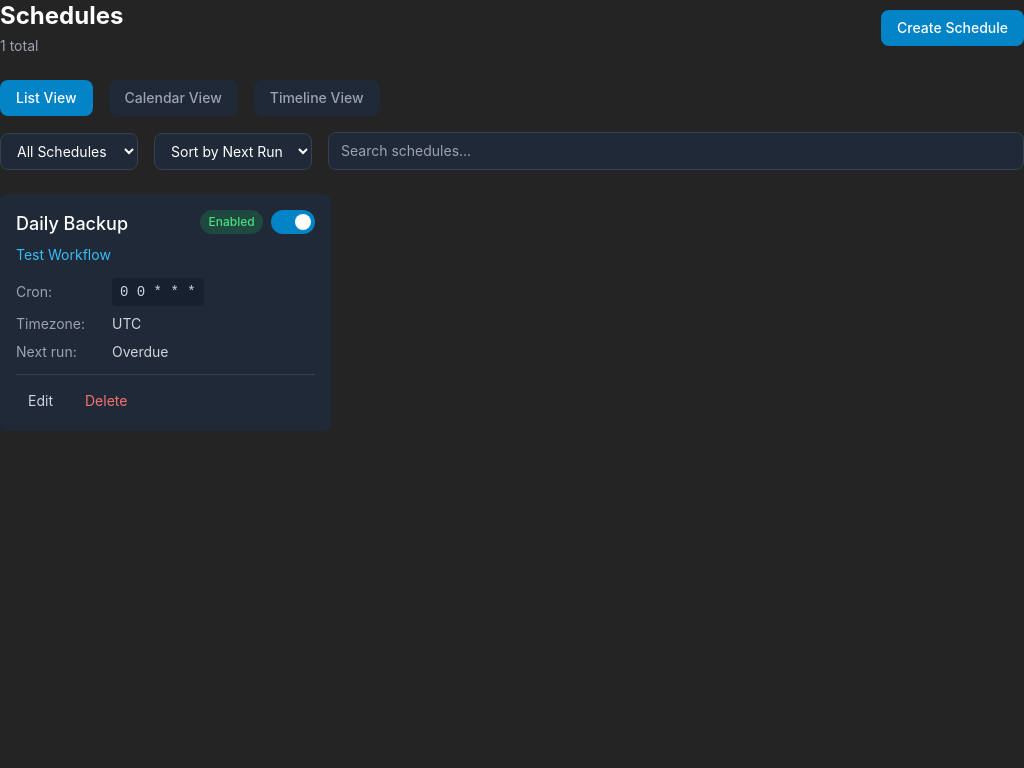
Test case: Schedules Page › Delete confirmation › should show delete confirmation modal when delete clicked
The image size is (1024, 768).
Click the button "Delete" at (106, 401), box [73,387,139,415]
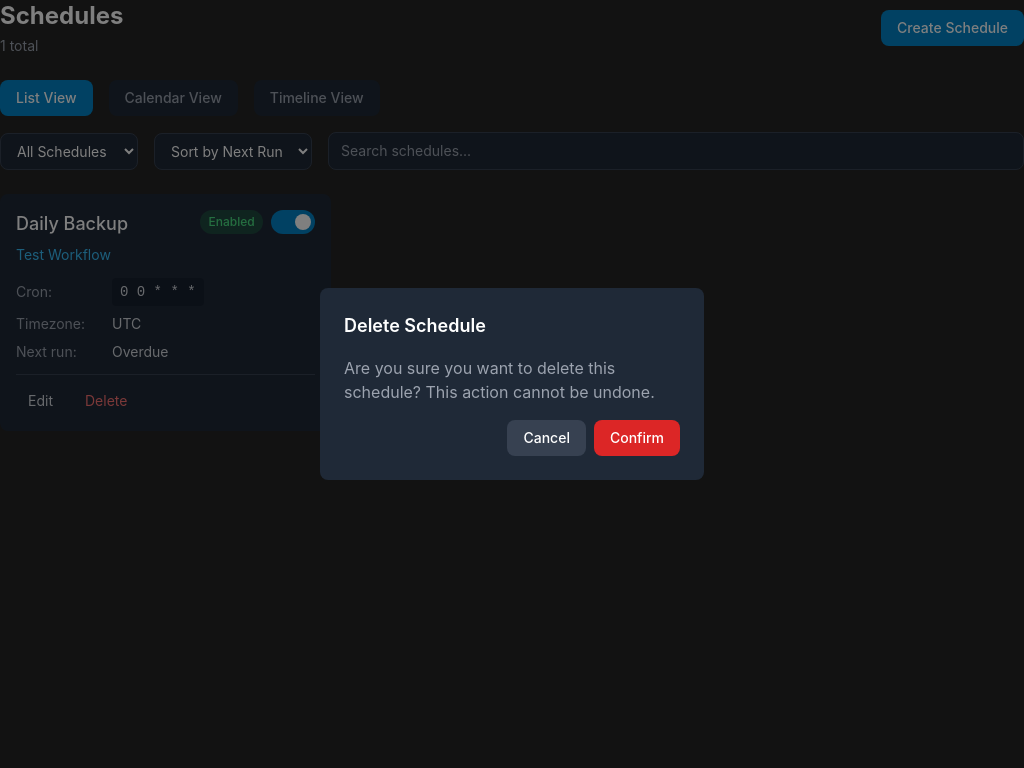
Check: the heading "Delete Schedule" is shown, box [344,315,486,336]
Check: the text "Are you sure you want to delete" is shown, box [344,358,655,402]
Check: the button "Cancel" is shown, box [508,420,586,456]
